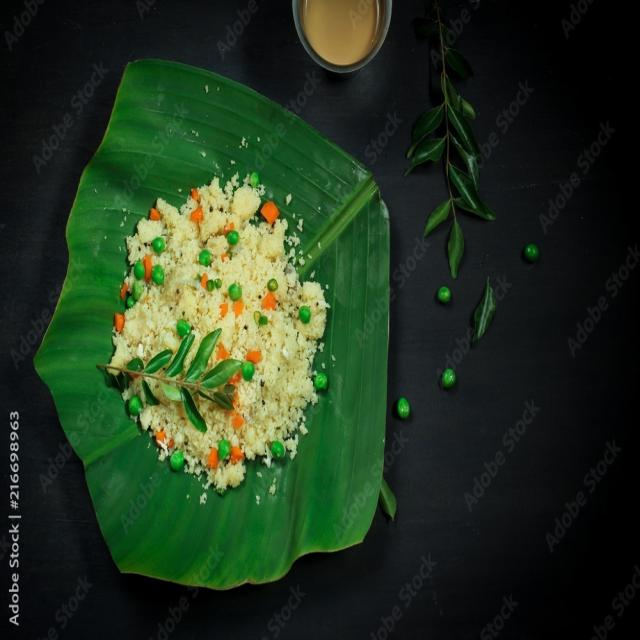UPMA: (110, 164, 338, 487)
